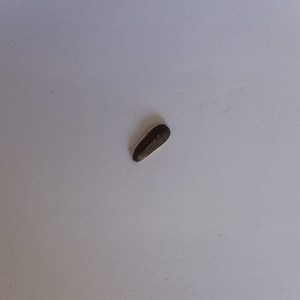girasol: (132, 122, 172, 165)
